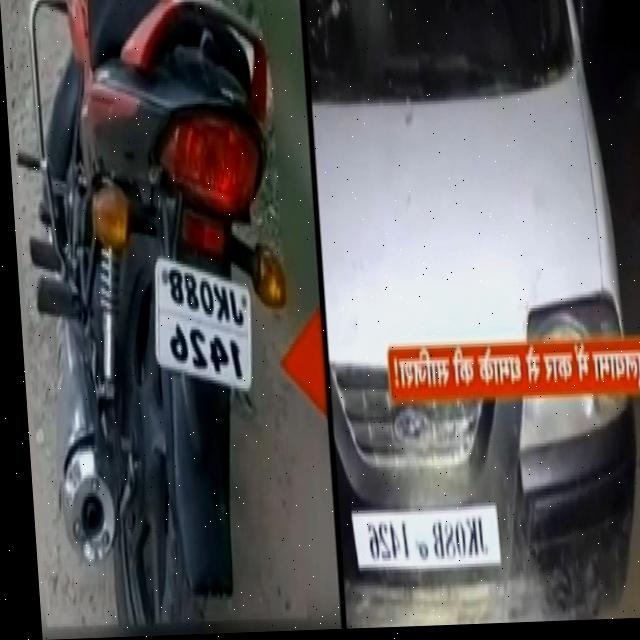plate: (141, 250, 256, 400), (342, 504, 498, 581)
